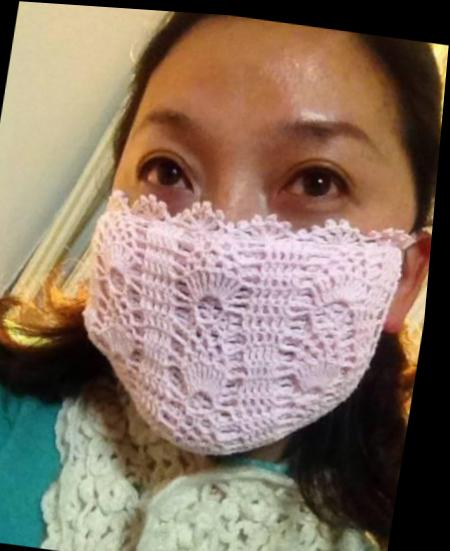WRONG: (76, 98, 435, 450)
